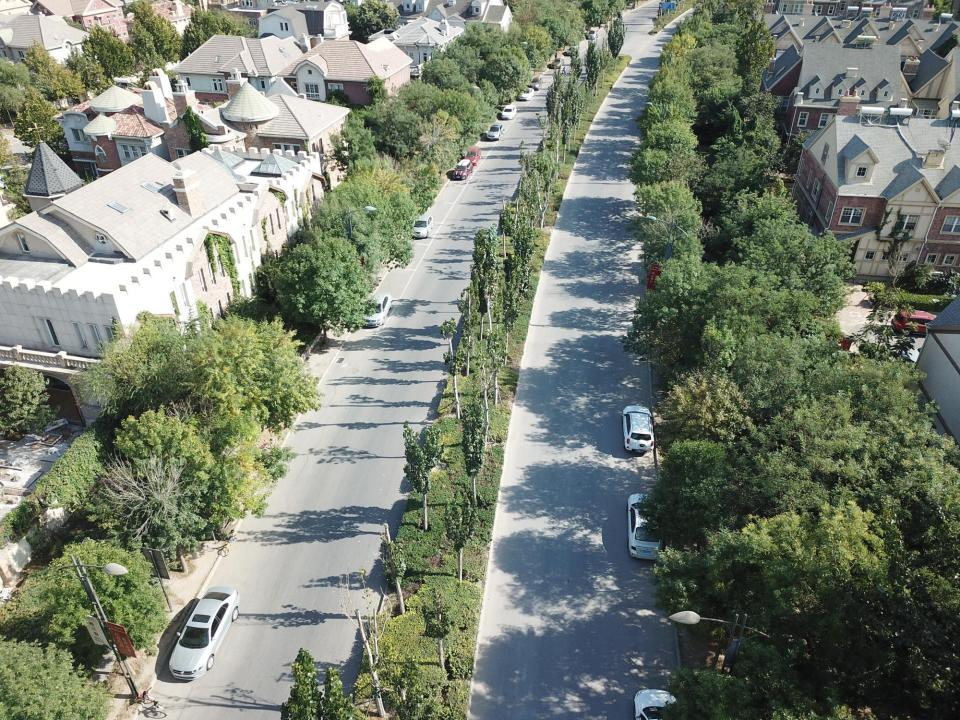car: (168, 586, 240, 680), (626, 493, 664, 561), (632, 688, 682, 720), (622, 405, 655, 453), (890, 310, 948, 336), (360, 292, 392, 328), (409, 215, 434, 239), (452, 159, 474, 180), (464, 146, 482, 166), (486, 123, 504, 141), (501, 105, 517, 120), (528, 75, 543, 91), (517, 88, 535, 100), (550, 57, 564, 68), (566, 46, 577, 56)
van: (588, 28, 598, 40)
